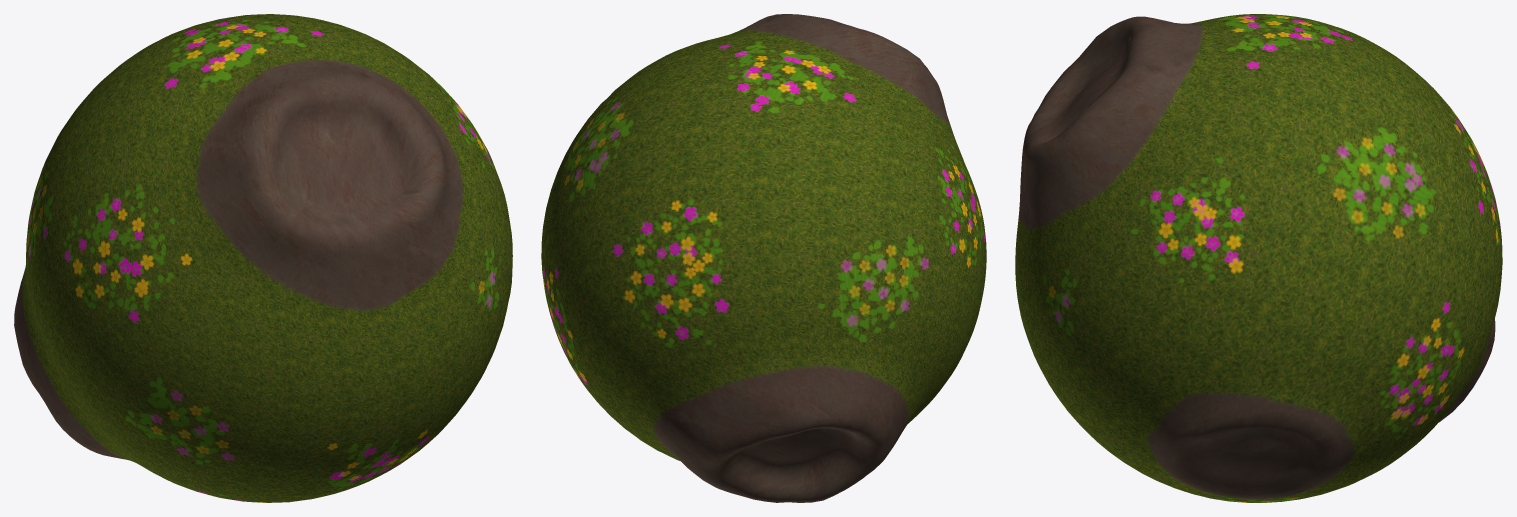
Rendered from Planeta.fbx.
3 views of the same model, side by side, from view 1: azimuth 30°, elevation 25°; view 2: azimuth 150°, elevation 25°; view 3: azimuth 270°, elevation 25° (orthographic). The views are drawn at different scales.
Parts seen in each view (by area): view 1: PolySphere; view 2: PolySphere; view 3: PolySphere.
Part boxes in pixels (x1=…): PolySphere: x1=14, y1=14, x2=512, y2=502; PolySphere: x1=541, y1=14, x2=986, y2=502; PolySphere: x1=1015, y1=14, x2=1502, y2=502.
Bounding box in the file's own units: 1500 × 1500 × 1496.
